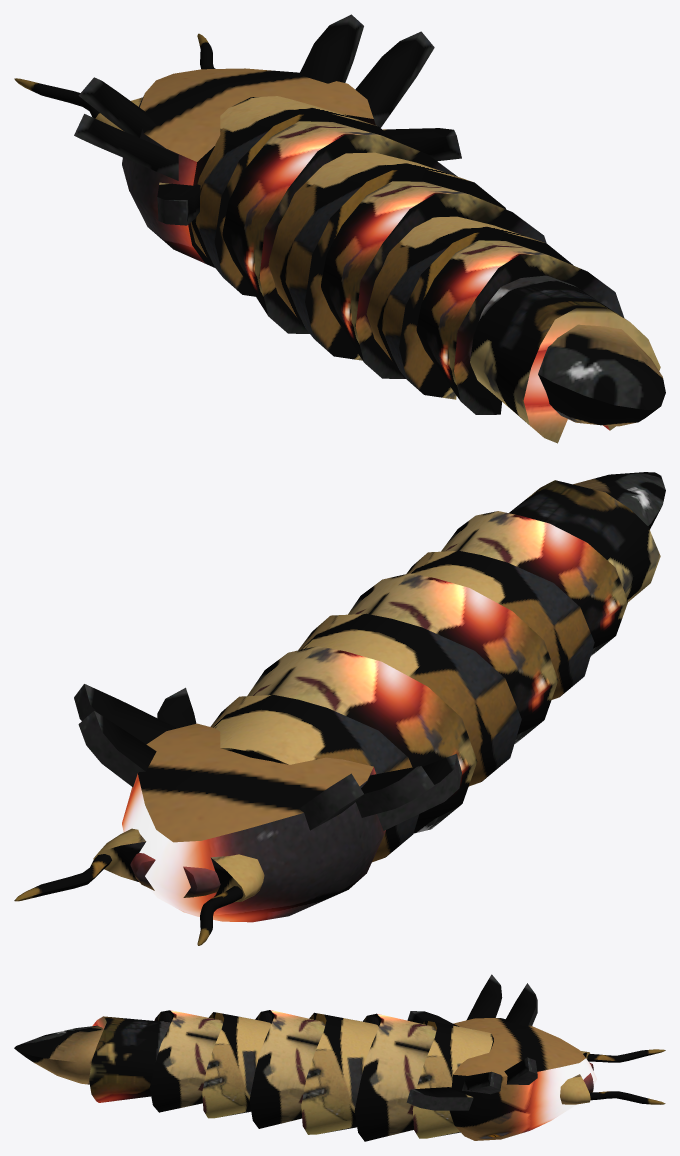
File: ship19i.fbx
3 renders of one model, top to bottom at view 1: azimuth 30°, elevation 25°; view 2: azimuth 150°, elevation 25°; view 3: azimuth 270°, elevation 25°, orthographic. The views are drawn at different scales.
Parts seen in each view (by area): view 1: PipelineFBX; view 2: PipelineFBX; view 3: PipelineFBX.
Part boxes in pixels (x1,y1,x2,y2): PipelineFBX: (14, 14, 665, 443); PipelineFBX: (14, 472, 665, 945); PipelineFBX: (14, 974, 665, 1141).
Bounding box in the file's own units: 182 × 93.83 × 480.
1 material, 1 textured.
